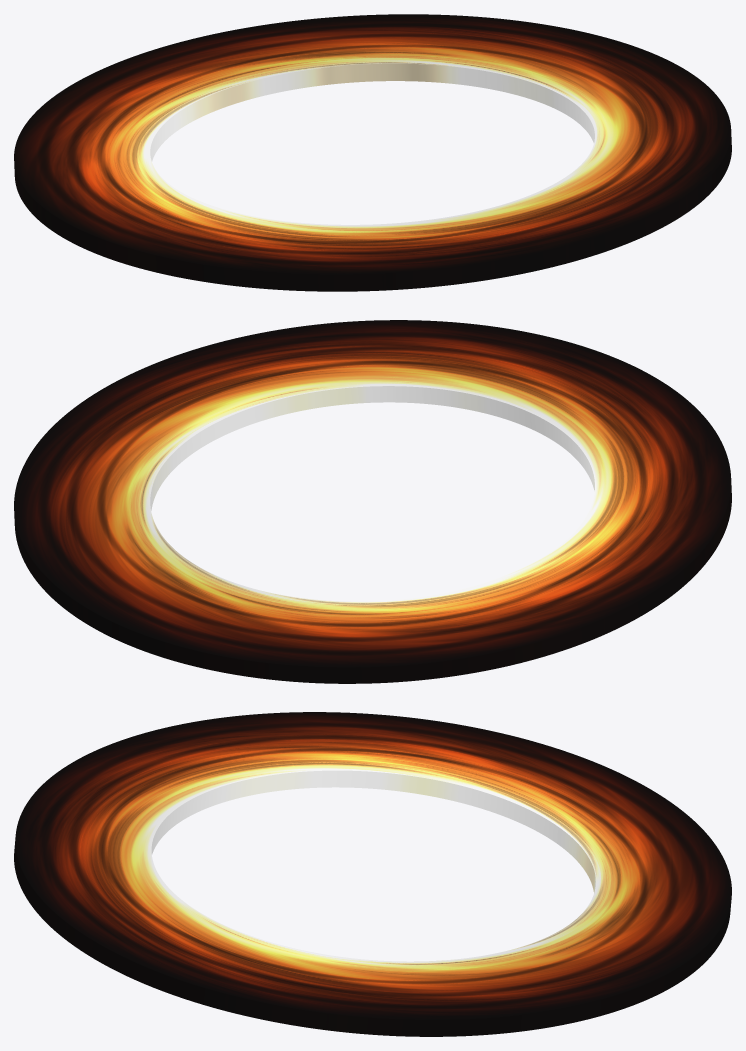
File: blackhole_disk.glb
3 renders of one model, top to bottom at view 1: azimuth 30°, elevation 25°; view 2: azimuth 150°, elevation 25°; view 3: azimuth 270°, elevation 25°, orthographic.
Visible parts, largest first — view 1: AccretionDisk; view 2: AccretionDisk; view 3: AccretionDisk.
Part boxes in pixels (x1,y1,x2,y2): AccretionDisk: [14, 14, 731, 291]; AccretionDisk: [14, 320, 731, 683]; AccretionDisk: [14, 712, 731, 1036].
Size of the model in its own units: 2 by 0.2077 by 2.
Materials: 1 (1 with a texture image).
